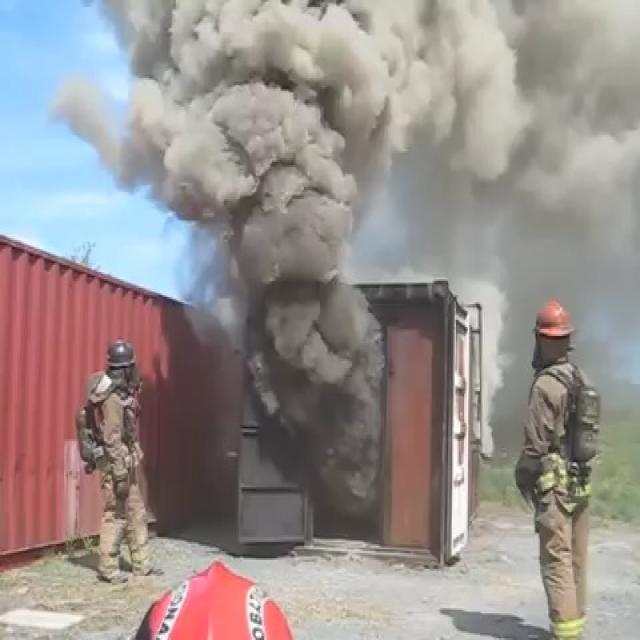Smoke: (141, 4, 390, 480)
